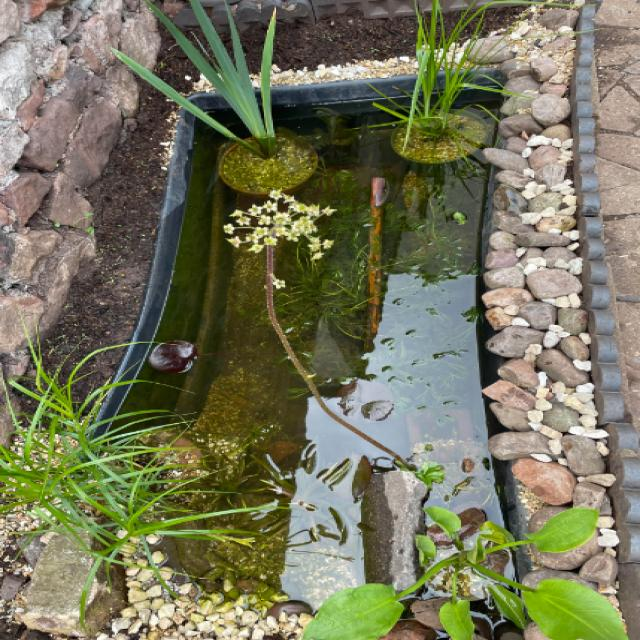Breeding Place: (83, 70, 521, 640)
